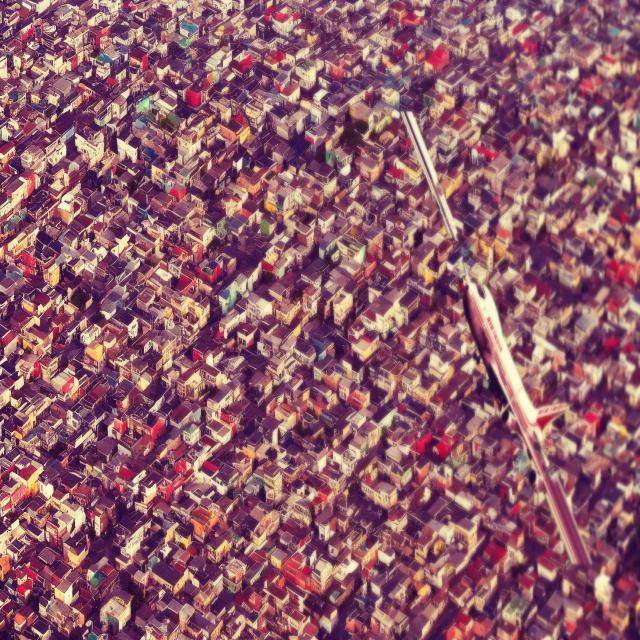airplane: (401, 110, 590, 564)
